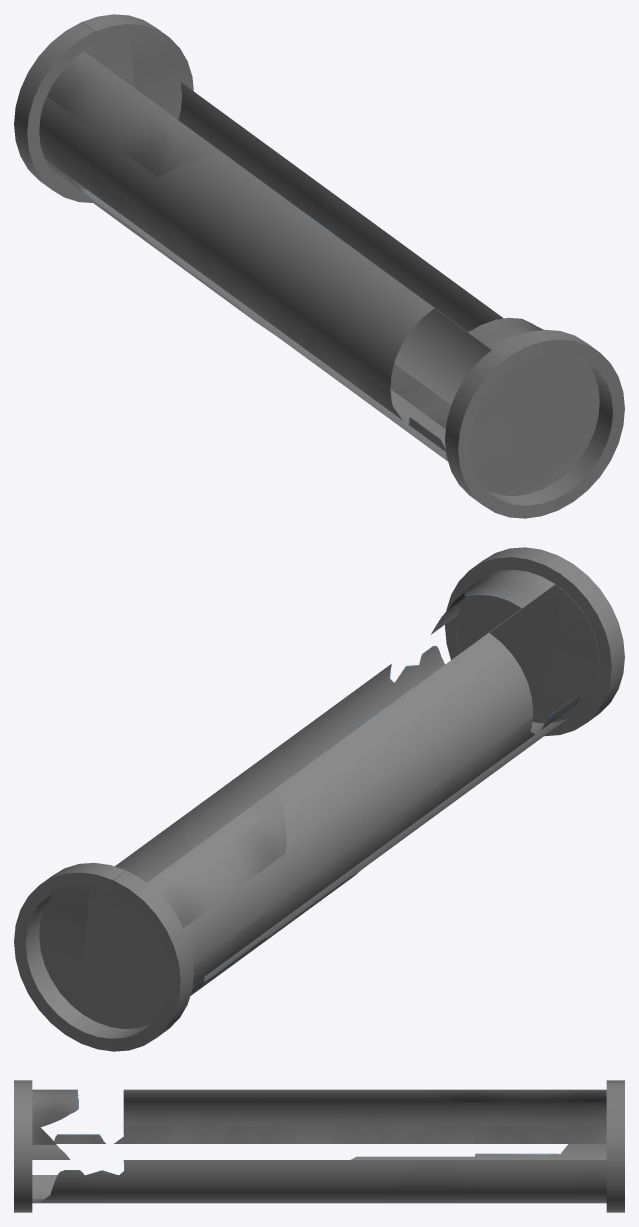
Rendered from TuberiaSeparada.fbx.
3 views of the same model, one above another, from view 1: azimuth 30°, elevation 25°; view 2: azimuth 150°, elevation 25°; view 3: azimuth 270°, elevation 25° (orthographic). The views are drawn at different scales.
Visible parts, largest first — view 1: Circle.004; view 2: Circle.004; view 3: Circle.004.
Part boxes in pixels (x1,y1,x2,y2): Circle.004: (14, 14, 624, 518); Circle.004: (14, 547, 624, 1051); Circle.004: (14, 1080, 624, 1212).
Bounding box in the file's own units: 200 × 200 × 922.
